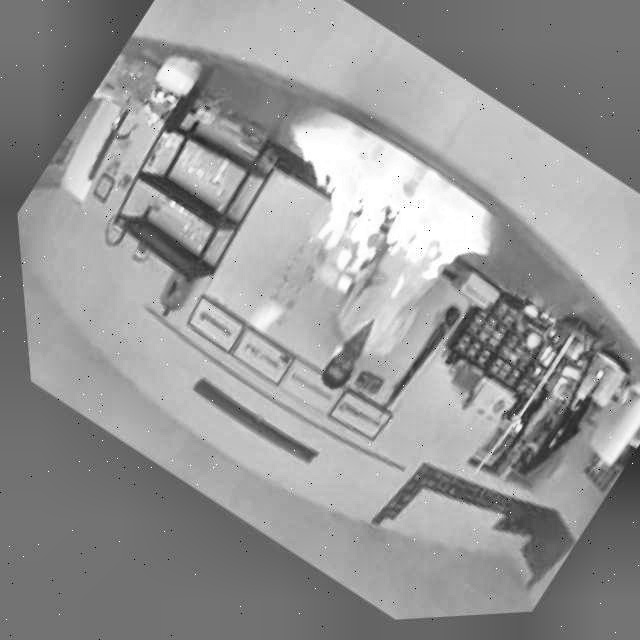Fire: (219, 109, 497, 364)
